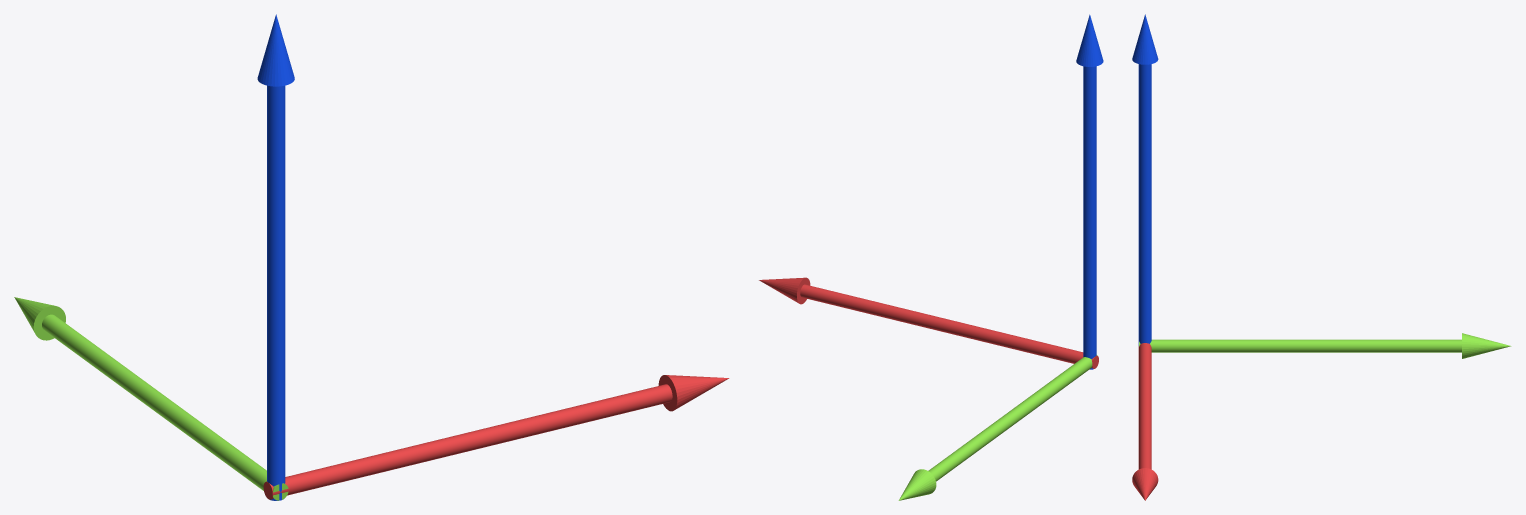
The model's file is gss1.fbx.
3 renders of one model, left to right at view 1: azimuth 30°, elevation 25°; view 2: azimuth 150°, elevation 25°; view 3: azimuth 270°, elevation 25°, orthographic. The views are drawn at different scales.
Visible parts, largest first — view 1: Y, X, Z; view 2: Y, X, Z; view 3: Z, Y, X.
Part boxes in pixels (box(x1,y1,x2,y2)): Y: box(257, 14, 294, 500); X: box(263, 375, 729, 499); Z: box(14, 297, 288, 500); Y: box(1076, 14, 1103, 369); X: box(759, 277, 1098, 368); Z: box(898, 355, 1097, 500); Z: box(1139, 333, 1511, 358); Y: box(1132, 14, 1158, 345); X: box(1132, 343, 1158, 500).
Bounding box in the file's own units: 31.9 × 31.9 × 31.91.
